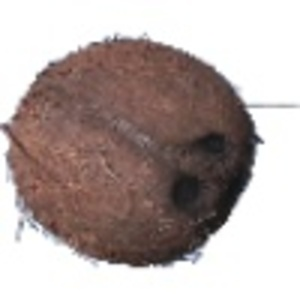coco: (1, 37, 263, 268)
